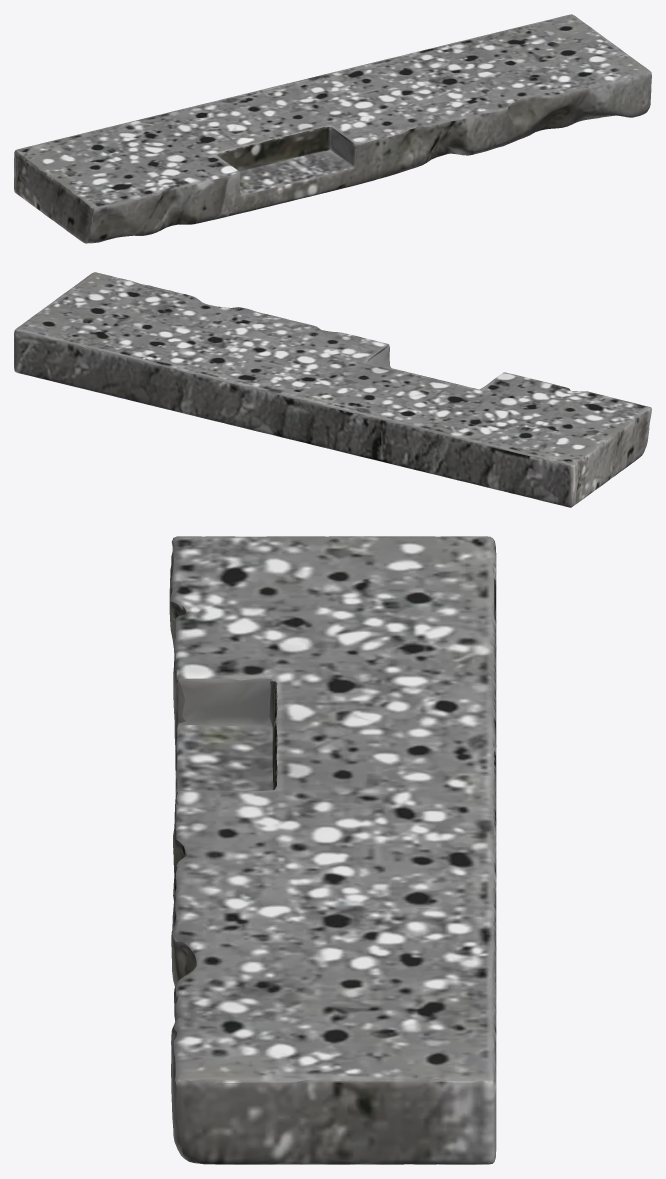
Rendered from remnant-e.glb.
The picture shows the model from 3 angles, top to bottom: view 1: azimuth 30°, elevation 25°; view 2: azimuth 150°, elevation 25°; view 3: azimuth 270°, elevation 25°; orthographic projection. The views are drawn at different scales.
Visible parts, largest first — view 1: geometry_0; view 2: geometry_0; view 3: geometry_0.
Part boxes in pixels (box(x1,y1,x2,y2)): geometry_0: box(14, 14, 651, 243); geometry_0: box(14, 272, 651, 507); geometry_0: box(169, 536, 496, 1164).
Bounding box in the file's own units: 0.6 × 0.0446 × 0.1517.
1 material, 1 textured.
